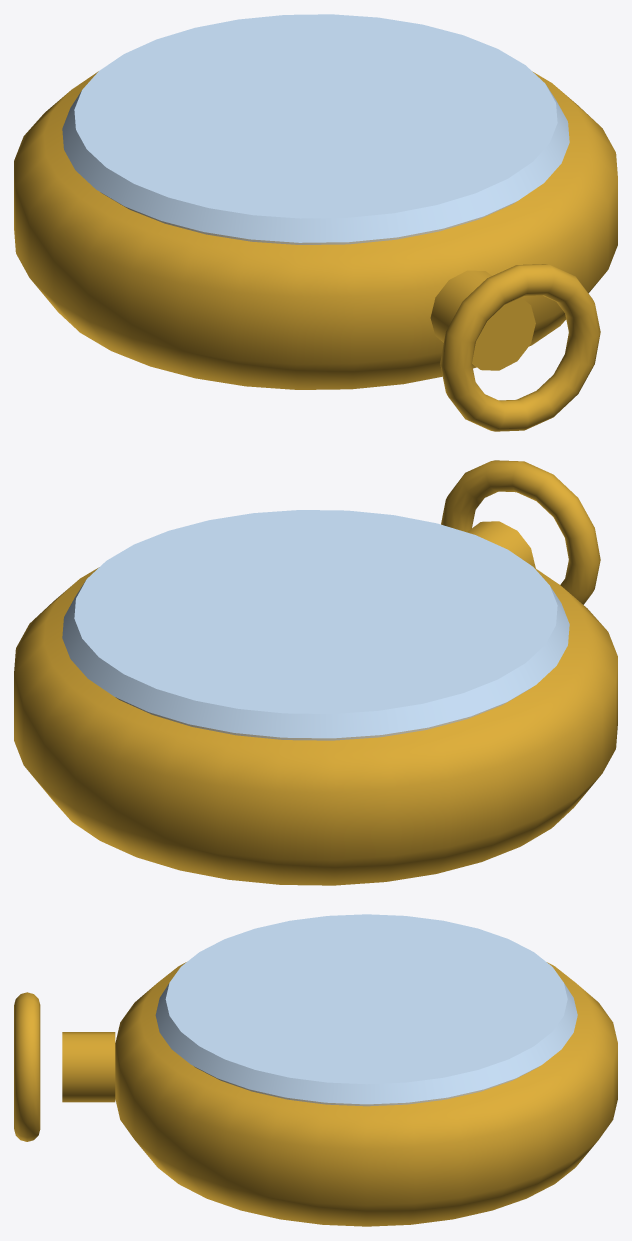
File: pocket_watch.glb
3 views of the same model, one above another, from view 1: azimuth 30°, elevation 25°; view 2: azimuth 150°, elevation 25°; view 3: azimuth 270°, elevation 25° (orthographic). The views are drawn at different scales.
Visible parts, largest first — view 1: pocket_watch; view 2: pocket_watch; view 3: pocket_watch.
Part boxes in pixels (x1=…): pocket_watch: x1=14, y1=14, x2=617, y2=431; pocket_watch: x1=14, y1=460, x2=617, y2=885; pocket_watch: x1=14, y1=914, x2=617, y2=1226.
Size of the model in its own units: 0.057 by 0.017 by 0.0685.
